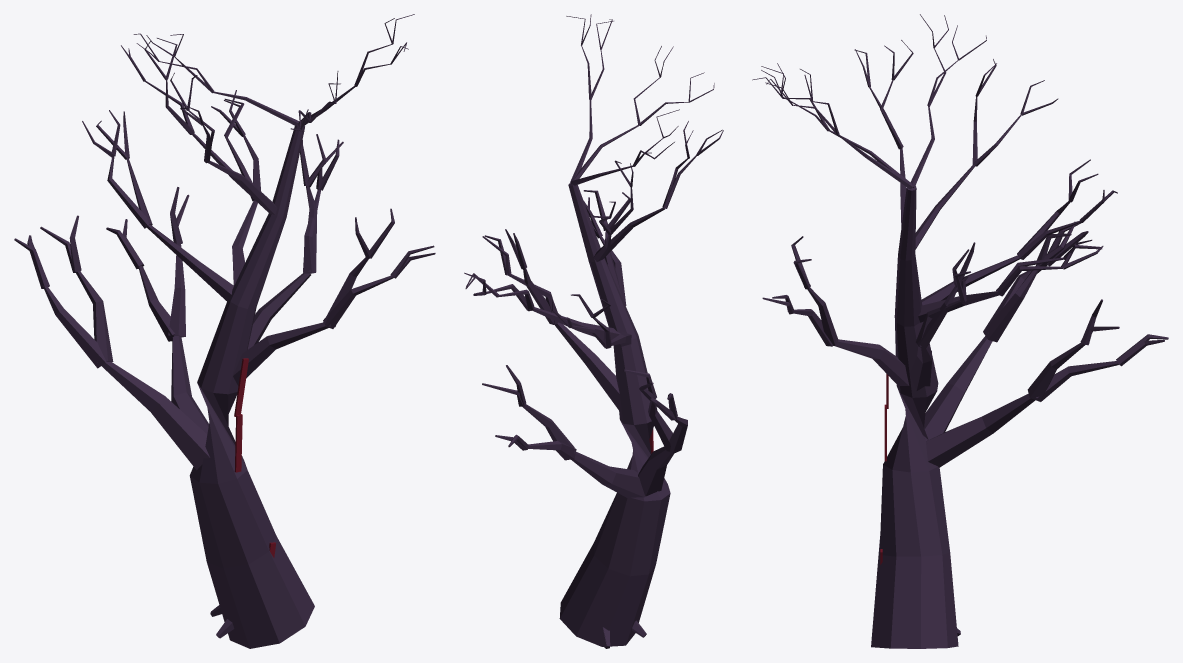
Rendered from dead_tree_b.glb.
3 views of the same model, side by side, from view 1: azimuth 30°, elevation 25°; view 2: azimuth 150°, elevation 25°; view 3: azimuth 270°, elevation 25° (orthographic). The views are drawn at different scales.
Visible parts, largest first — view 1: dead_tree_b; view 2: dead_tree_b; view 3: dead_tree_b.
Part boxes in pixels (left/top/right/bottom): dead_tree_b: left=14, top=14, right=435, bottom=648; dead_tree_b: left=464, top=14, right=723, bottom=648; dead_tree_b: left=752, top=14, right=1168, bottom=648.
Bounding box in the file's own units: 1.51 × 3.43 × 2.08.
